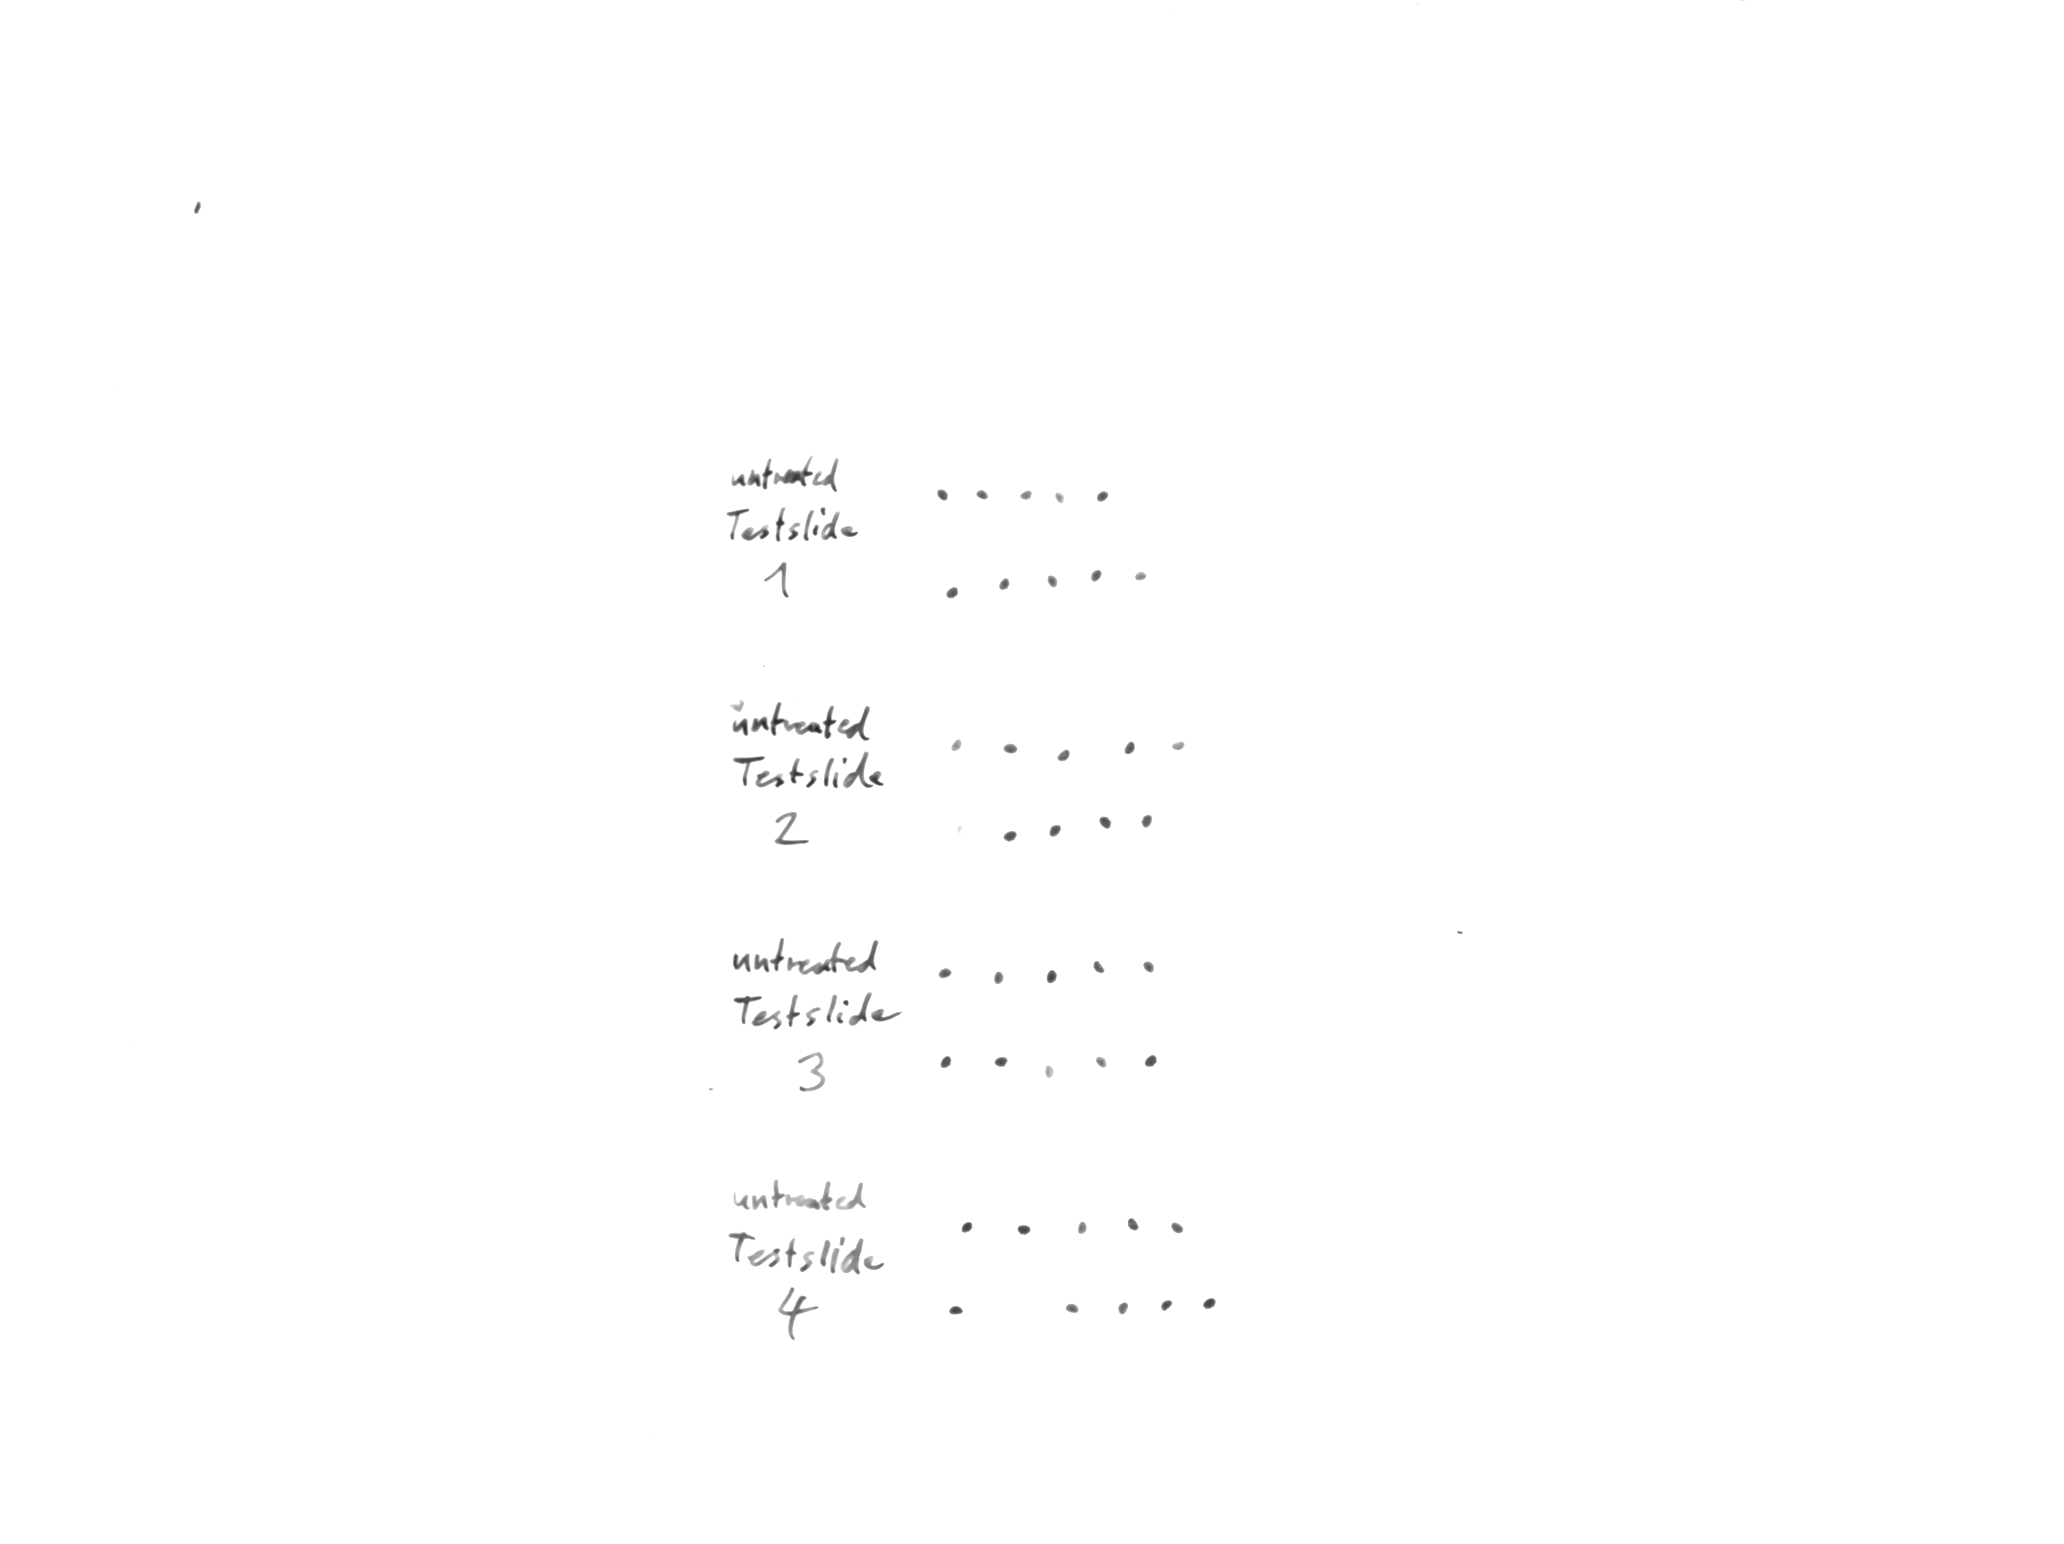varroa: (1200, 1296, 1216, 1312), (1000, 829, 1018, 843), (1096, 816, 1112, 830), (1138, 813, 1153, 829), (936, 967, 953, 980), (1075, 1218, 1088, 1236), (947, 1304, 965, 1317), (1064, 1302, 1083, 1314), (937, 1054, 952, 1069), (1143, 1054, 1158, 1069), (958, 1218, 973, 1233), (1158, 1297, 1172, 1312), (942, 585, 958, 598), (1002, 741, 1018, 754), (992, 1056, 1008, 1069), (934, 488, 948, 501), (1094, 1054, 1107, 1069), (1125, 1216, 1140, 1229), (1124, 740, 1135, 756), (1046, 968, 1057, 984), (1015, 1224, 1031, 1236), (1094, 490, 1107, 503), (1046, 574, 1059, 587), (1143, 960, 1156, 973), (1171, 1220, 1184, 1233), (950, 738, 961, 753), (1057, 748, 1068, 762), (974, 488, 987, 500), (1090, 569, 1101, 582), (1172, 740, 1185, 751), (1049, 824, 1060, 837), (1093, 962, 1104, 975), (1043, 1066, 1054, 1079), (1119, 1299, 1127, 1317), (999, 576, 1008, 590), (994, 970, 1004, 984), (1020, 490, 1033, 500), (1054, 491, 1064, 504), (1135, 571, 1146, 581)
